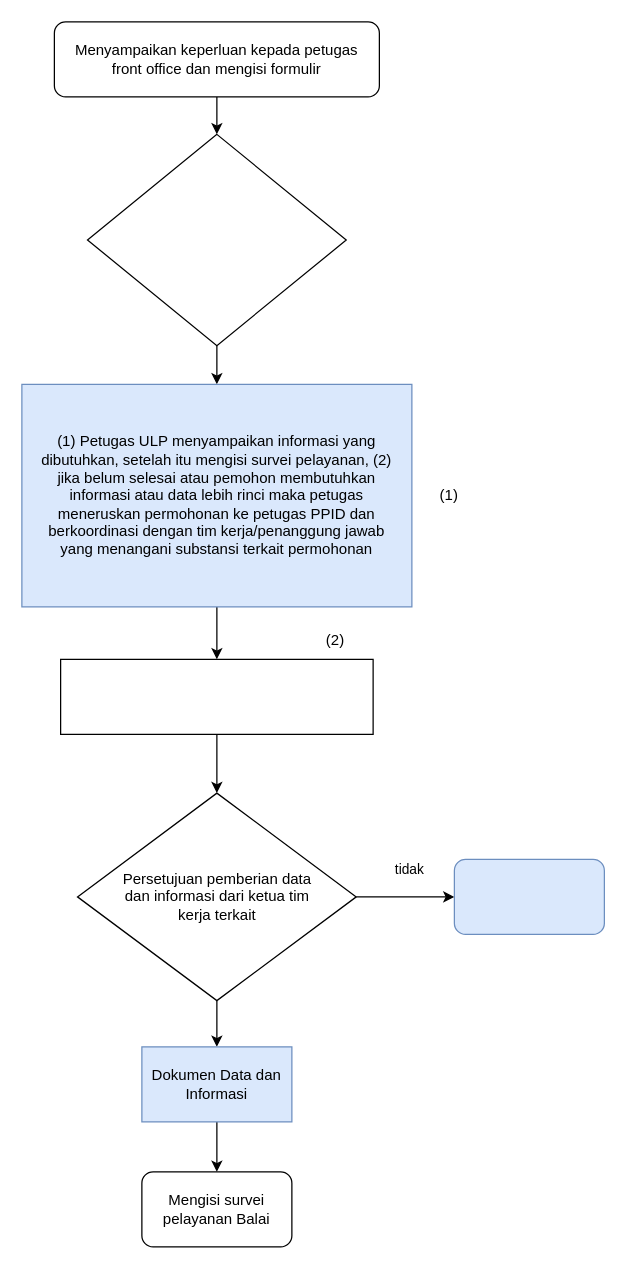
Some shapes in this 626 by 1269 pixel diagram are drawn without their labels. Here are the shapes that lost their labels. From the top down, the centre of each, then its label:
At point (216, 239): "Petugas front office ULP memverifikasi data pemohon dan permohonan informasi".
At point (216, 696): "Pegawai terkait menindaklanjuti permintaan".
At point (528, 896): "Pegawai menyampaikan kepada pemohon".
